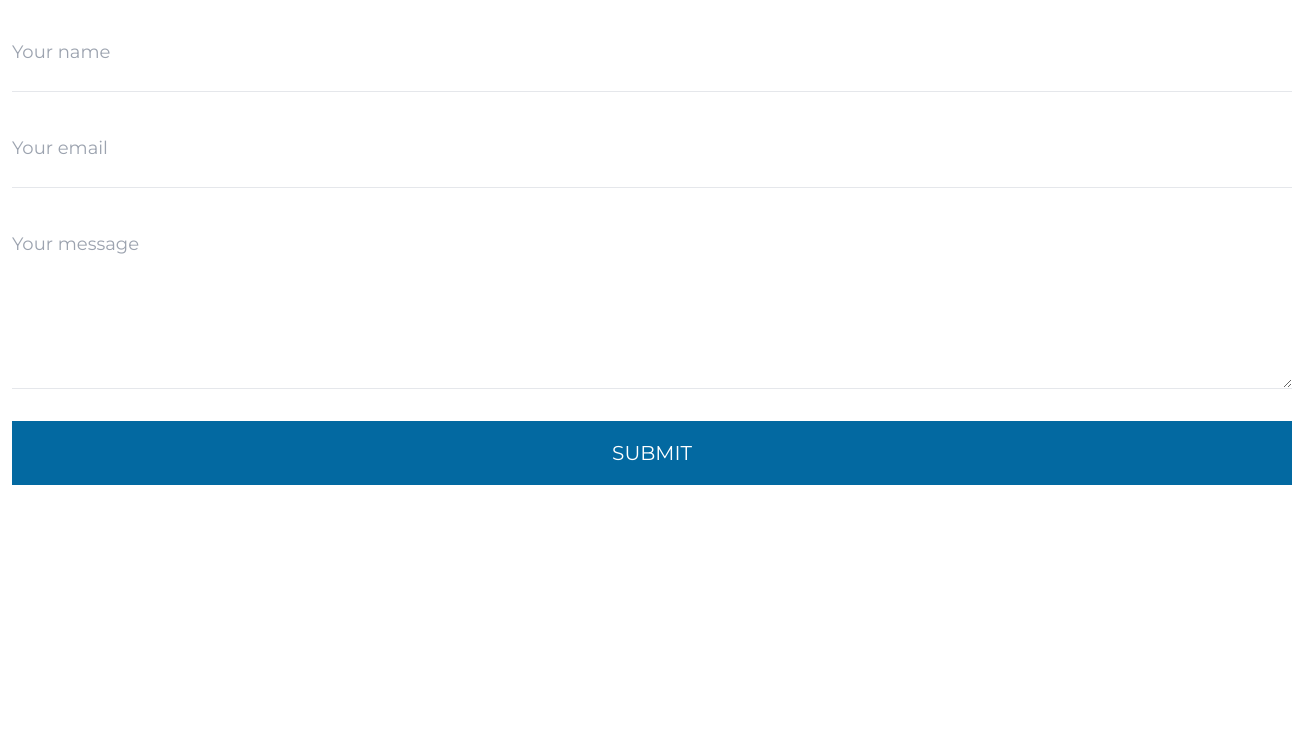
Scenario: ContactSection › should display matching error when email is invalid
Type "name" into the field labelled "name". click: x=652, y=52
box: [12,12,1292,92]
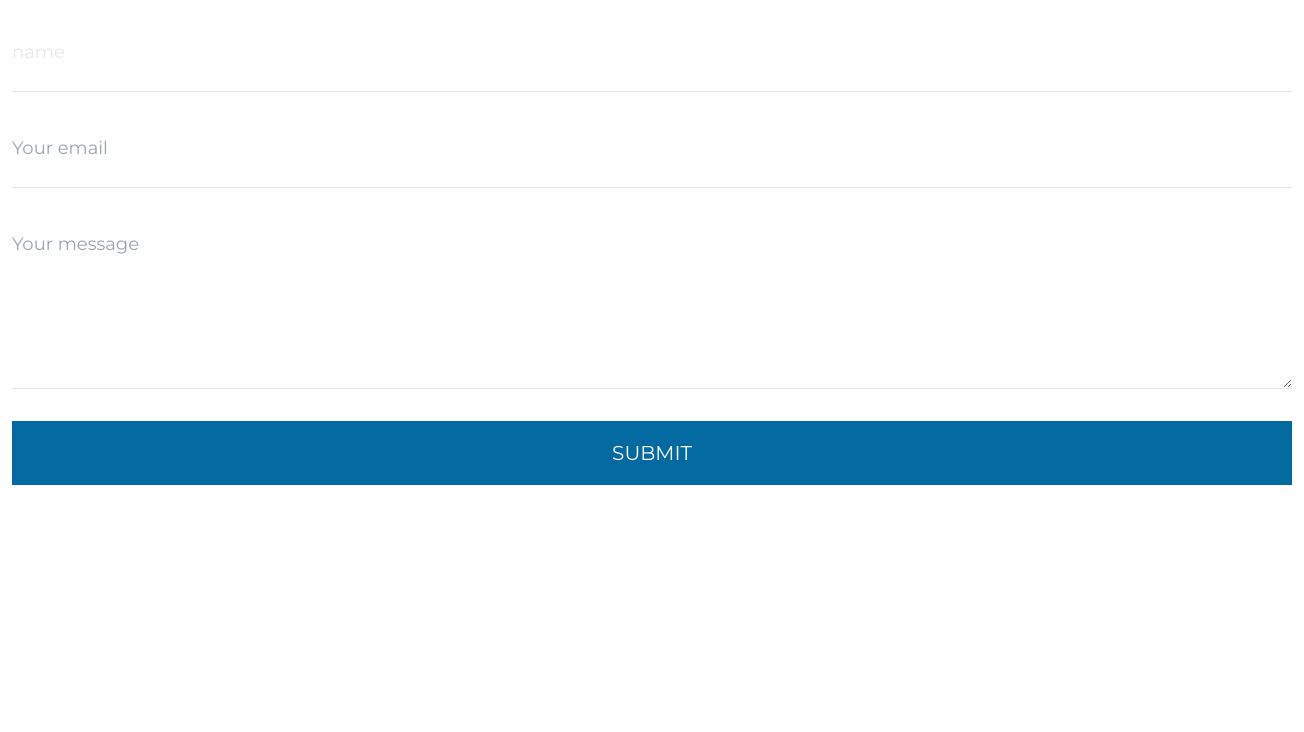
Type "email" into the field labelled "email". click: x=652, y=148
box: [12,108,1292,188]
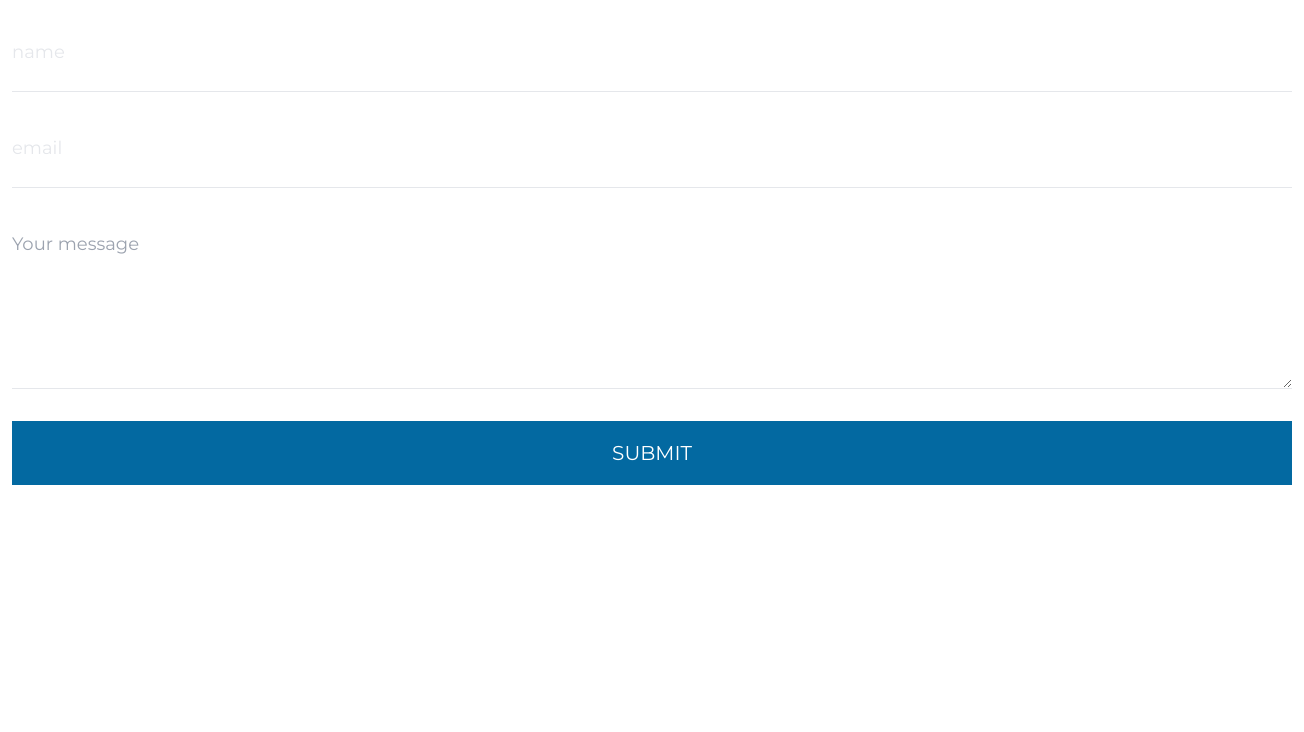
Type "message" into the text box labelled "message". click: x=652, y=308
box: [12,228,1292,389]
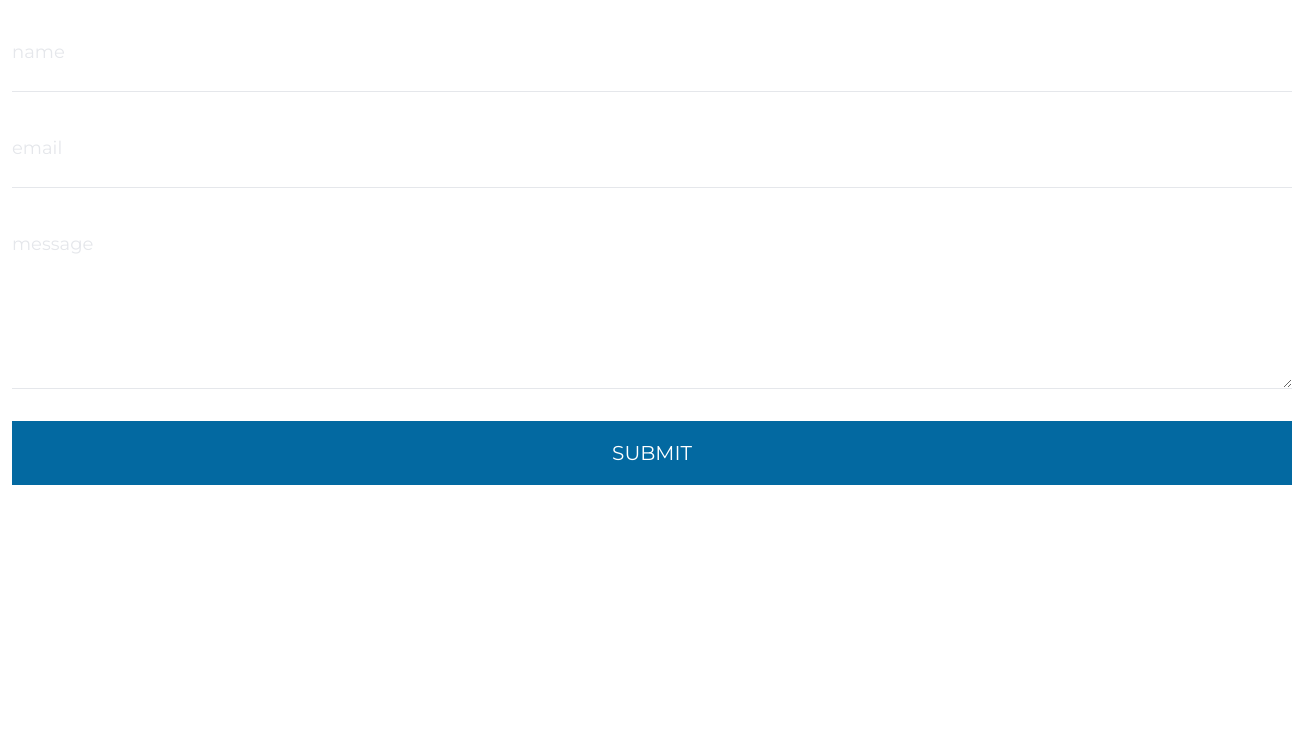
Submit the form from the button, box [12,421,1292,485]
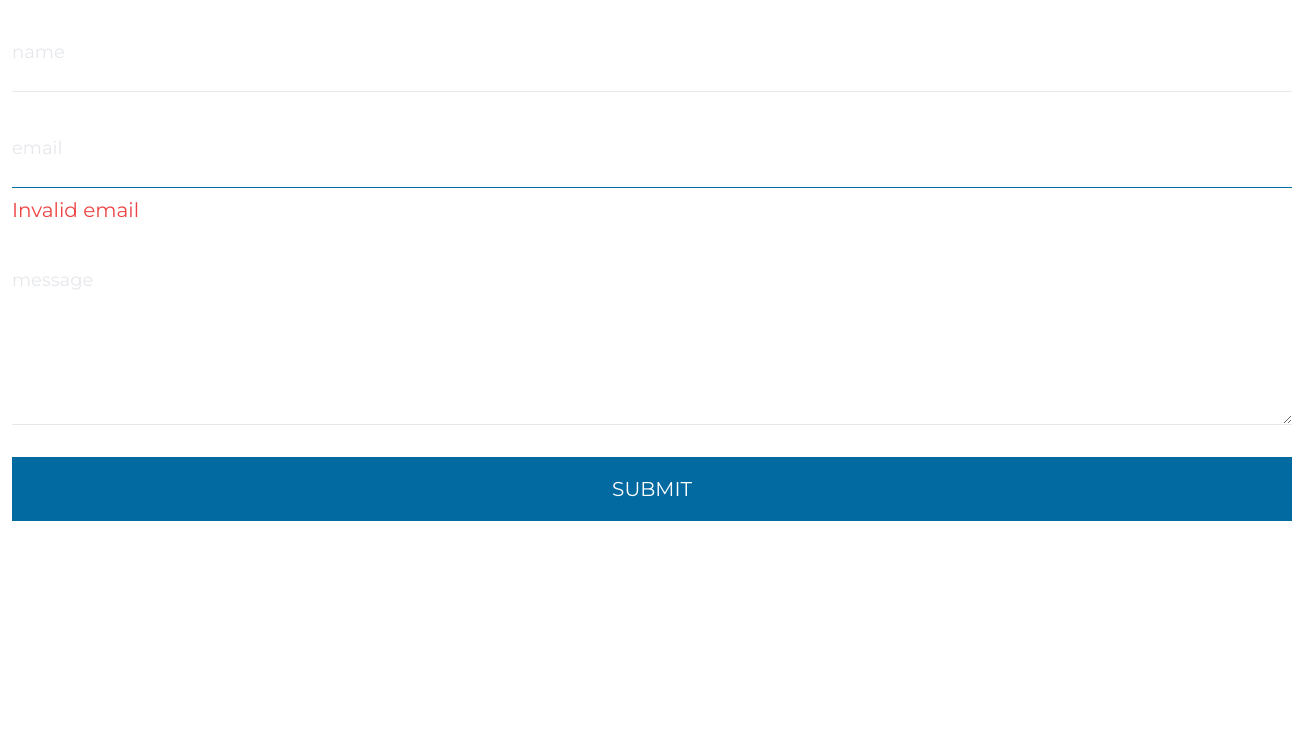
Expected: the number of messages is 1, [12,198,139,222]
